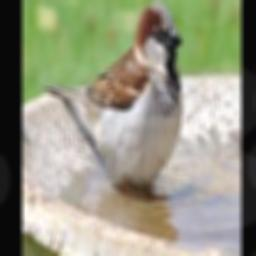Sparrow: (43, 0, 182, 191)
